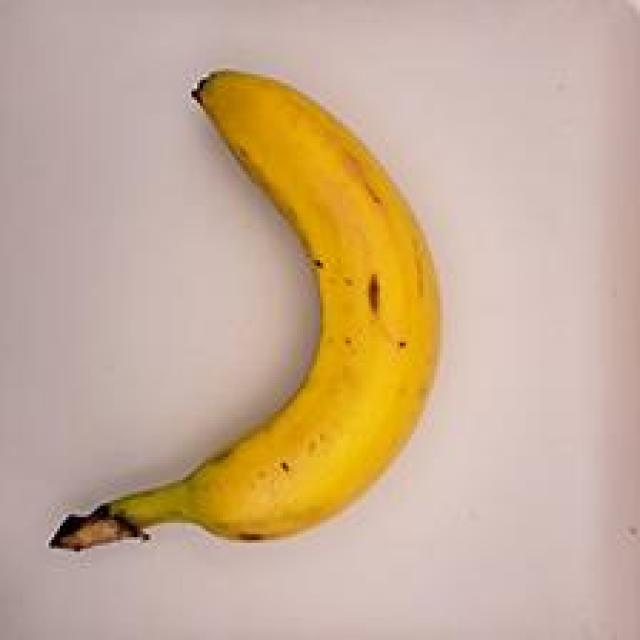ripe: (34, 29, 464, 565)
